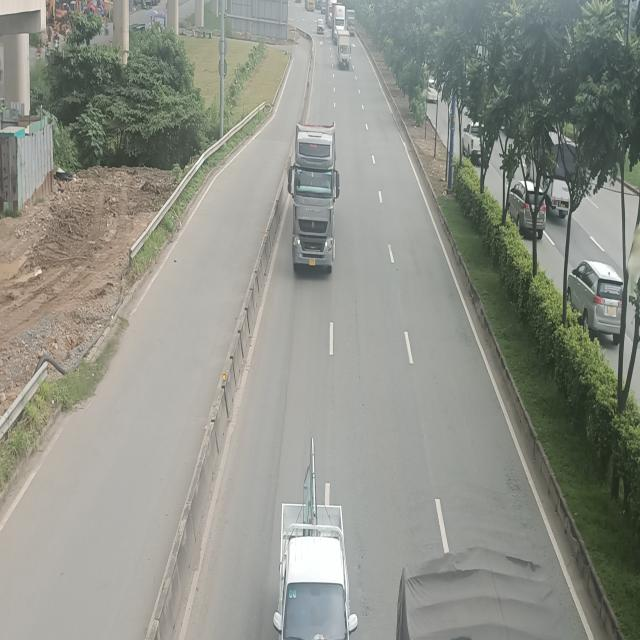container: (288, 123, 340, 275)
truck: (270, 491, 356, 638)
